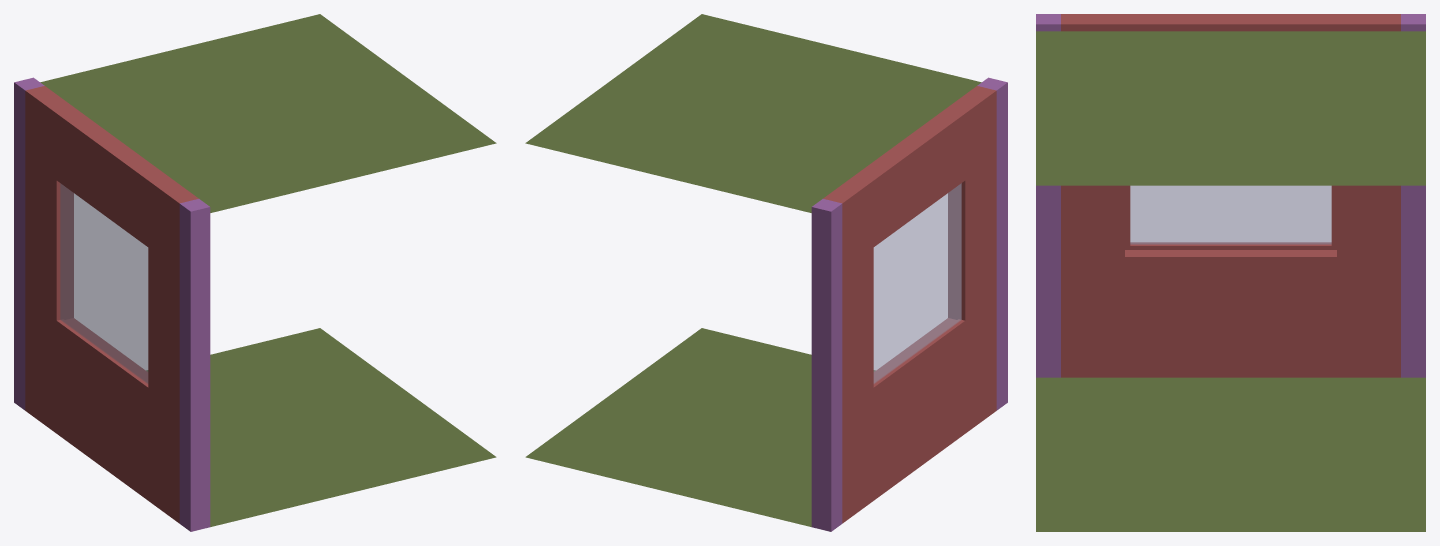
The model's file is building_wall_window.fbx.
3 renders of one model, left to right at view 1: azimuth 30°, elevation 25°; view 2: azimuth 150°, elevation 25°; view 3: azimuth 270°, elevation 25°, orthographic. The views are drawn at different scales.
Parts seen in each view (by area): view 1: polySurface8, building_windowframe1, polySurface7, glass_01, building_pillar10, building_pillar9, window_frame; view 2: polySurface8, building_windowframe1, polySurface7, glass_01, building_pillar9, building_pillar10, window_frame; view 3: polySurface7, polySurface8, building_windowframe1, glass_01, building_pillar9, building_pillar10, window_frame.
Part boxes in pixels (x1,y1,x2,y2): polySurface8: (40, 14, 496, 212); building_windowframe1: (25, 86, 198, 523); polySurface7: (146, 328, 496, 526); glass_01: (60, 183, 148, 383); building_pillar10: (179, 199, 210, 531); building_pillar9: (14, 77, 44, 410); window_frame: (54, 175, 150, 392); polySurface8: (525, 14, 981, 212); building_windowframe1: (823, 86, 996, 523); polySurface7: (525, 328, 875, 526); glass_01: (873, 183, 961, 383); building_pillar9: (811, 199, 842, 531); building_pillar10: (977, 77, 1007, 410); window_frame: (871, 175, 967, 392); polySurface7: (1036, 377, 1425, 531); polySurface8: (1036, 31, 1425, 185); building_windowframe1: (1061, 14, 1400, 377); glass_01: (1130, 185, 1331, 244); building_pillar9: (1401, 14, 1425, 377); building_pillar10: (1036, 14, 1060, 377); window_frame: (1125, 185, 1336, 249).
Size of the model in its own units: 1 by 1 by 1.
